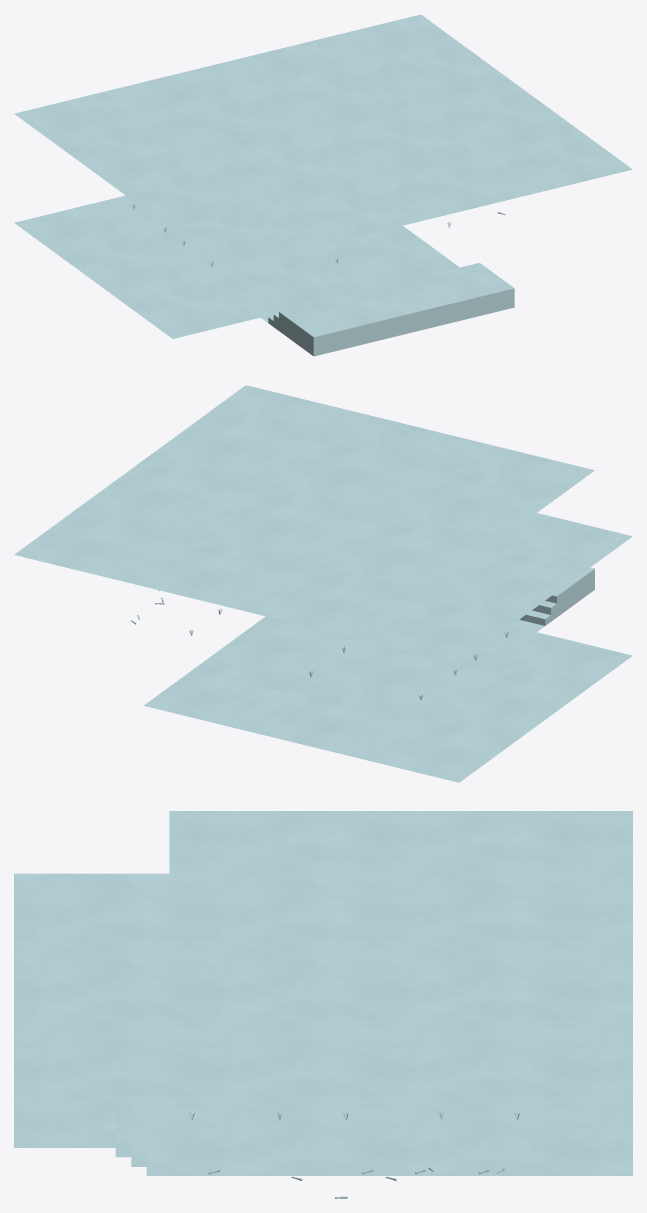
Rendered from resto_ni_teo_16.obj.
3 views of the same model, one above another, from view 1: azimuth 30°, elevation 25°; view 2: azimuth 150°, elevation 25°; view 3: azimuth 270°, elevation 25° (orthographic). The views are drawn at different scales.
Bounding box in the file's own units: 18.66 × 4.78 × 16.83.
